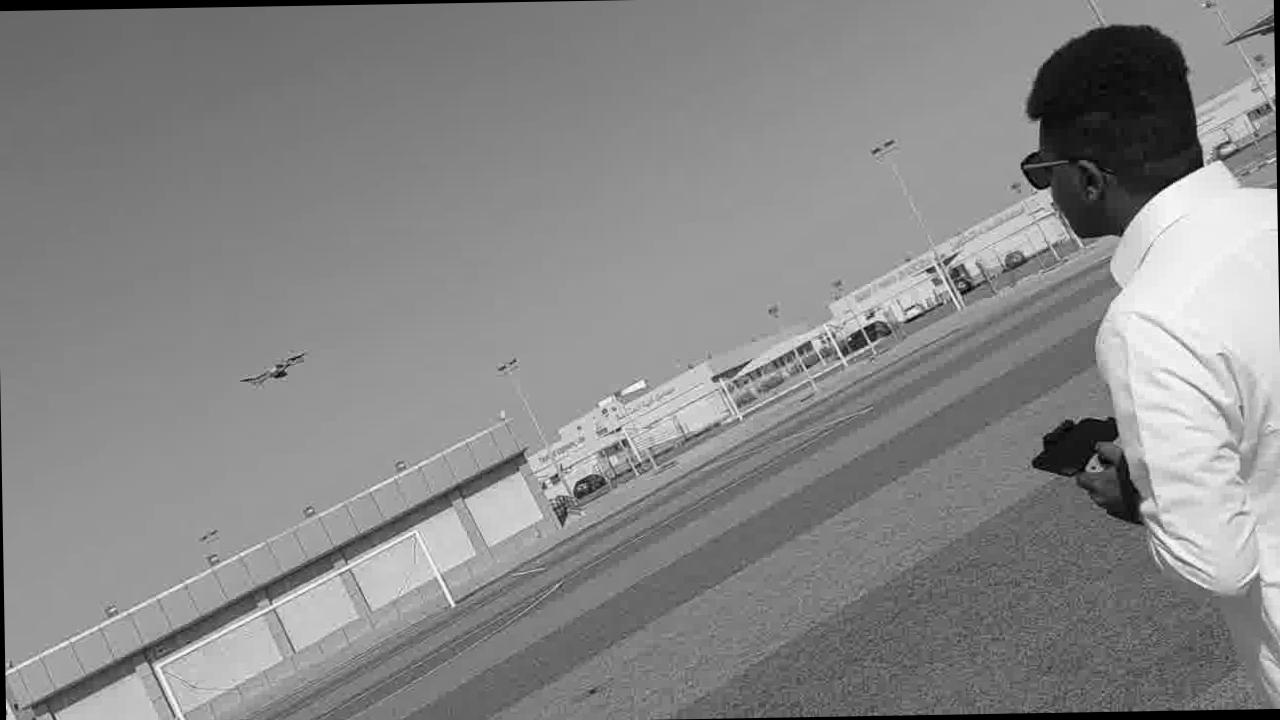drone: (232, 339, 312, 399)
